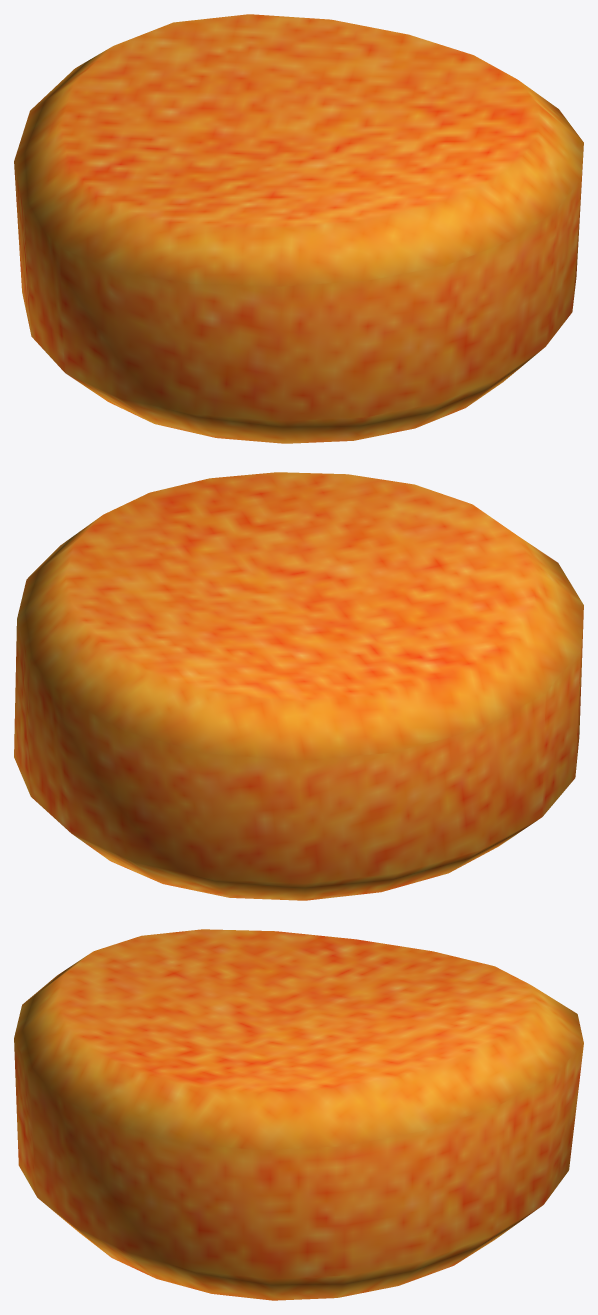
File: SM_ChickenFries_01.fbx
The picture shows the model from 3 angles, top to bottom: view 1: azimuth 30°, elevation 25°; view 2: azimuth 150°, elevation 25°; view 3: azimuth 270°, elevation 25°; orthographic projection. The views are drawn at different scales.
Visible parts, largest first — view 1: SM_ChickenFries_01_LOD0; view 2: SM_ChickenFries_01_LOD0; view 3: SM_ChickenFries_01_LOD0.
Part boxes in pixels (x1=…): SM_ChickenFries_01_LOD0: x1=14, y1=14, x2=583, y2=443; SM_ChickenFries_01_LOD0: x1=14, y1=472, x2=583, y2=900; SM_ChickenFries_01_LOD0: x1=14, y1=929, x2=583, y2=1300.
Bounding box in the file's own units: 5.59 × 6.01 × 2.5.
Materials: 1 (1 with a texture image).
